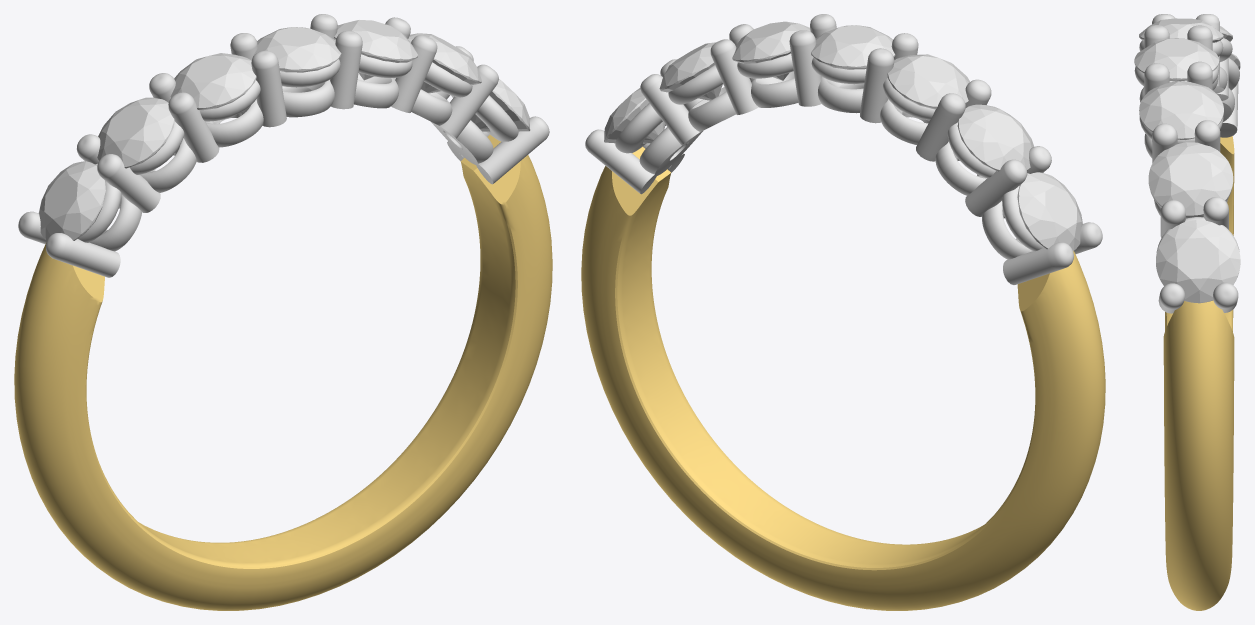
The model's file is Josh7stone_blender.glb.
The picture shows the model from 3 angles, left to right: view 1: azimuth 30°, elevation 25°; view 2: azimuth 150°, elevation 25°; view 3: azimuth 270°, elevation 25°; orthographic projection. The views are drawn at different scales.
Parts seen in each view (by area): view 1: Josh her wb YG for 3d model, Josh her wb PT for 3d model, Josh her wb dia for 3d model.006, Josh her wb dia for 3d model.005, Josh her wb dia for 3d model.004, Josh her wb dia for 3d model.003, Josh her wb dia for 3d model.002, Josh her wb dia for 3d model.001, Josh her wb dia for 3d model; view 2: Josh her wb YG for 3d model, Josh her wb PT for 3d model, Josh her wb dia for 3d model.006, Josh her wb dia for 3d model.005, Josh her wb dia for 3d model.004, Josh her wb dia for 3d model.003, Josh her wb dia for 3d model.002, Josh her wb dia for 3d model.001, Josh her wb dia for 3d model; view 3: Josh her wb YG for 3d model, Josh her wb PT for 3d model, Josh her wb dia for 3d model, Josh her wb dia for 3d model.001, Josh her wb dia for 3d model.002, Josh her wb dia for 3d model.003, Josh her wb dia for 3d model.004.
Boxes of the visible parts, x1,y1,x2,y2 form: Josh her wb YG for 3d model: (14, 135, 552, 610); Josh her wb PT for 3d model: (18, 14, 549, 277); Josh her wb dia for 3d model.006: (38, 161, 105, 240); Josh her wb dia for 3d model.005: (97, 97, 174, 168); Josh her wb dia for 3d model.004: (170, 53, 256, 110); Josh her wb dia for 3d model.003: (253, 27, 341, 87); Josh her wb dia for 3d model.002: (334, 20, 417, 80); Josh her wb dia for 3d model.001: (408, 33, 481, 93); Josh her wb dia for 3d model: (471, 79, 530, 131); Josh her wb YG for 3d model: (581, 146, 1105, 610); Josh her wb PT for 3d model: (585, 14, 1102, 284); Josh her wb dia for 3d model.006: (1017, 172, 1082, 250); Josh her wb dia for 3d model.005: (957, 104, 1033, 171); Josh her wb dia for 3d model.004: (887, 54, 969, 109); Josh her wb dia for 3d model.003: (811, 25, 895, 84); Josh her wb dia for 3d model.002: (732, 21, 810, 80); Josh her wb dia for 3d model.001: (659, 42, 722, 100); Josh her wb dia for 3d model: (604, 88, 664, 143); Josh her wb YG for 3d model: (1163, 136, 1234, 610); Josh her wb PT for 3d model: (1134, 14, 1239, 313); Josh her wb dia for 3d model: (1156, 220, 1240, 303); Josh her wb dia for 3d model.001: (1148, 142, 1233, 216); Josh her wb dia for 3d model.002: (1139, 81, 1223, 139); Josh her wb dia for 3d model.003: (1134, 38, 1219, 81); Josh her wb dia for 3d model.004: (1139, 18, 1223, 42).
Bounding box in the file's own units: 20.29 × 21.05 × 3.76.
